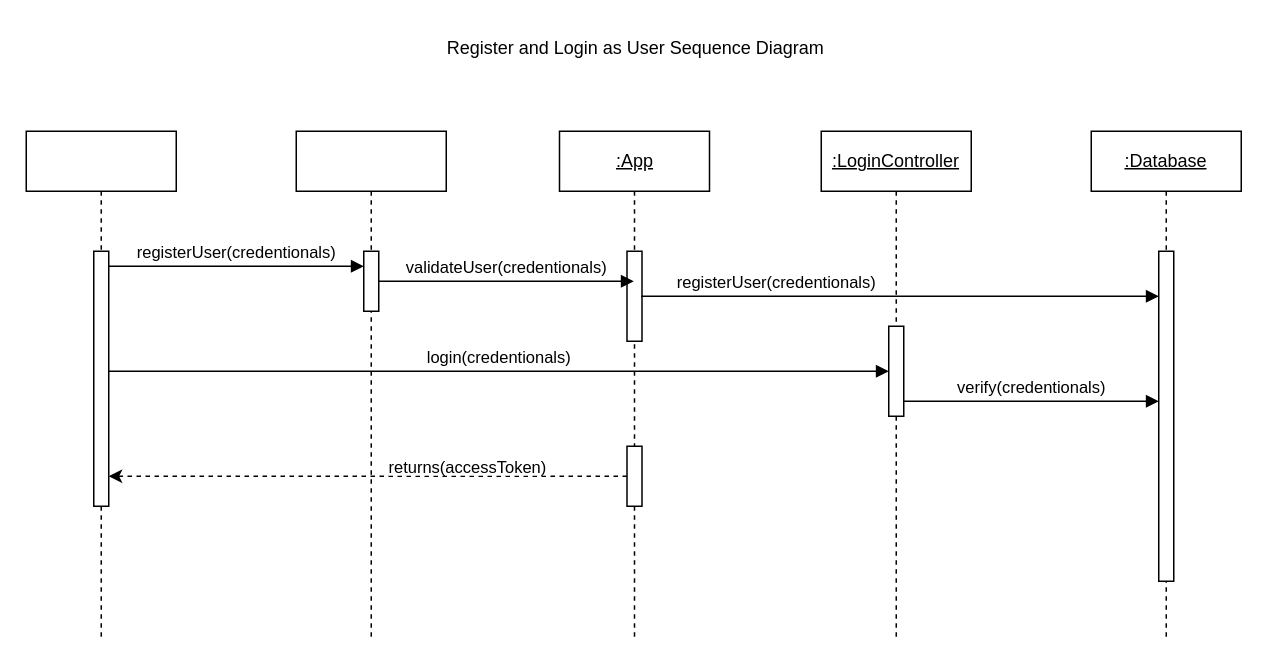
Some shapes in this 1268 by 668 pixel diagram are drawn without their labels. Each missing label, with the box of its shape:
:RegisterController: (295, 130, 446, 641)
:User: (25, 130, 176, 641)
